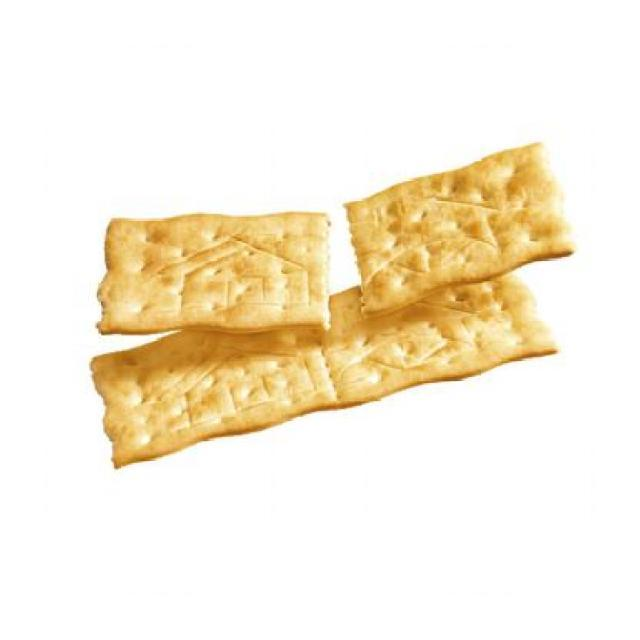Cracker packaged: (82, 272, 570, 463), (341, 143, 574, 312), (92, 209, 334, 334)
